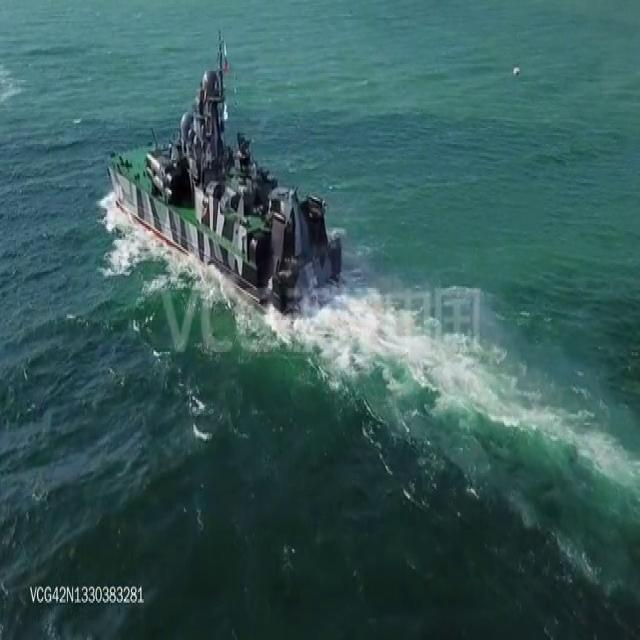houseboat: (107, 64, 349, 304)
